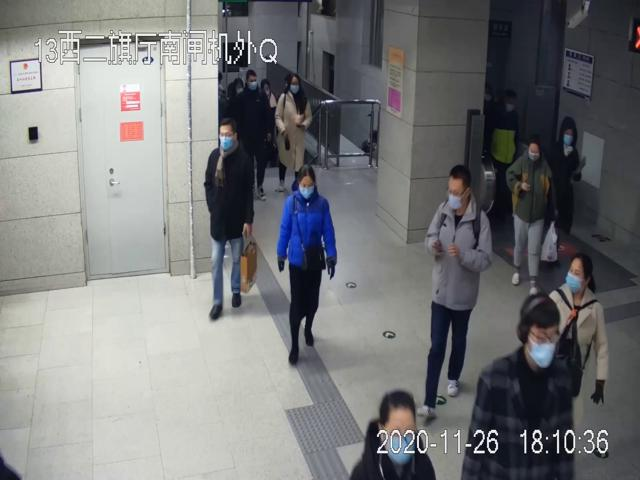person: (418, 164, 493, 410), (277, 164, 337, 362), (205, 118, 254, 319), (505, 137, 554, 300), (274, 73, 312, 192)
